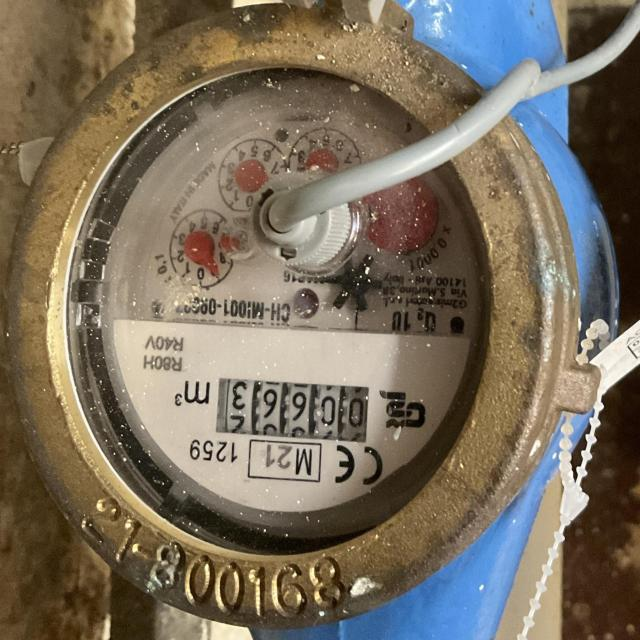gaz_meter: (97, 75, 493, 548)
indication: (218, 378, 368, 441)
